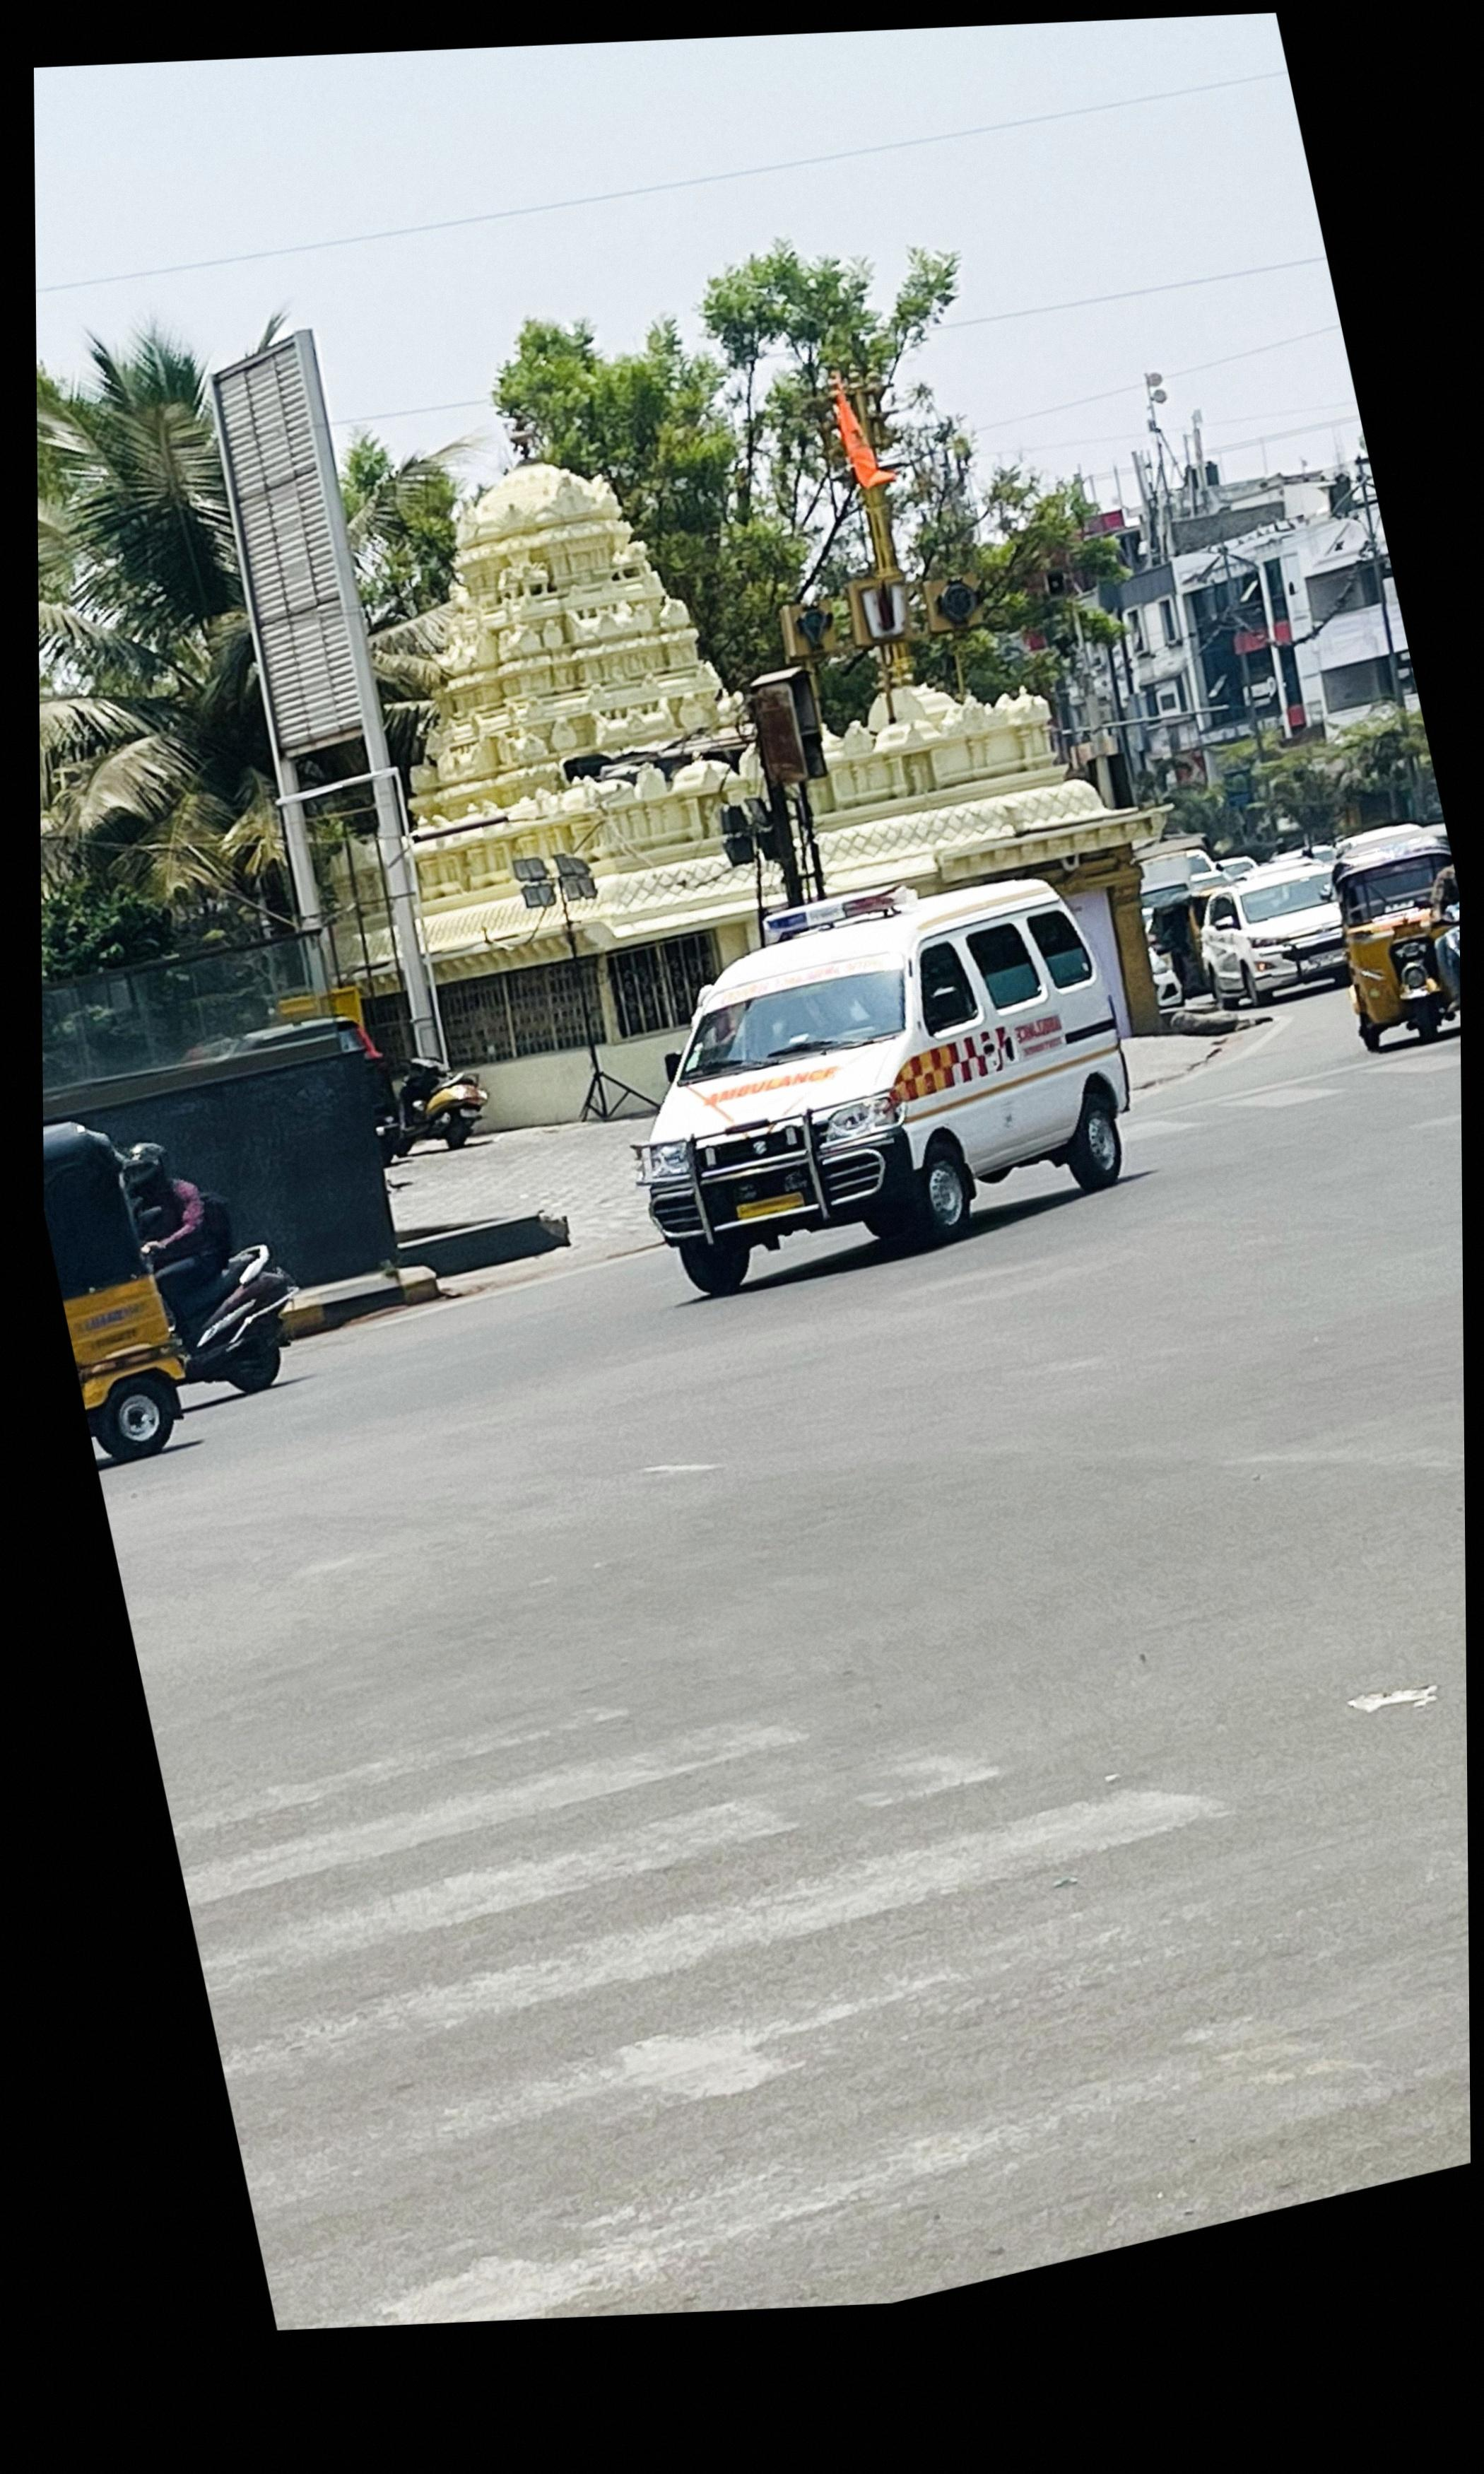ambulance: (636, 880, 1134, 1290)
